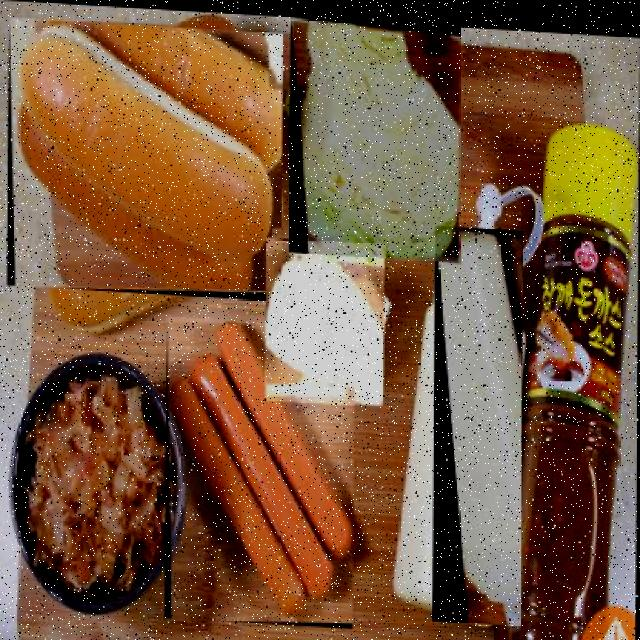Bread: (8, 18, 284, 299)
Cabbage: (289, 14, 462, 258)
Kimchi: (32, 392, 158, 579)
Mayonnaise: (434, 221, 524, 622)
Onion: (266, 234, 388, 403)
Sausage: (166, 314, 357, 626)
